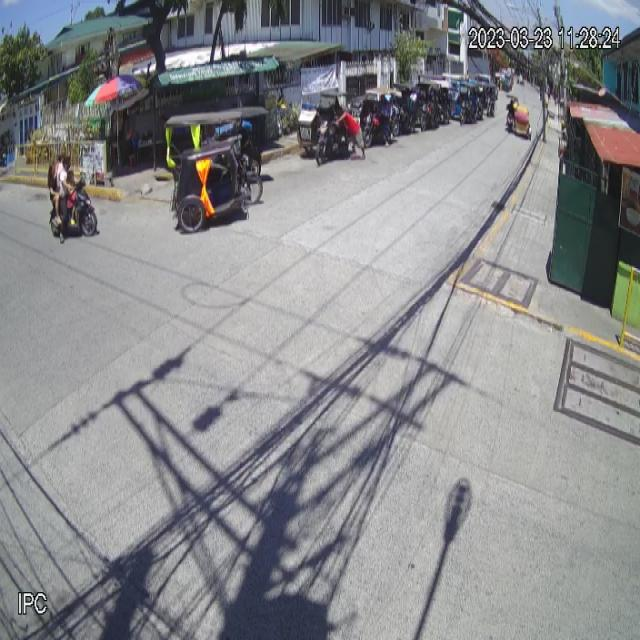Motorcycle: (48, 178, 98, 239)
Tricycle: (170, 116, 252, 232)
